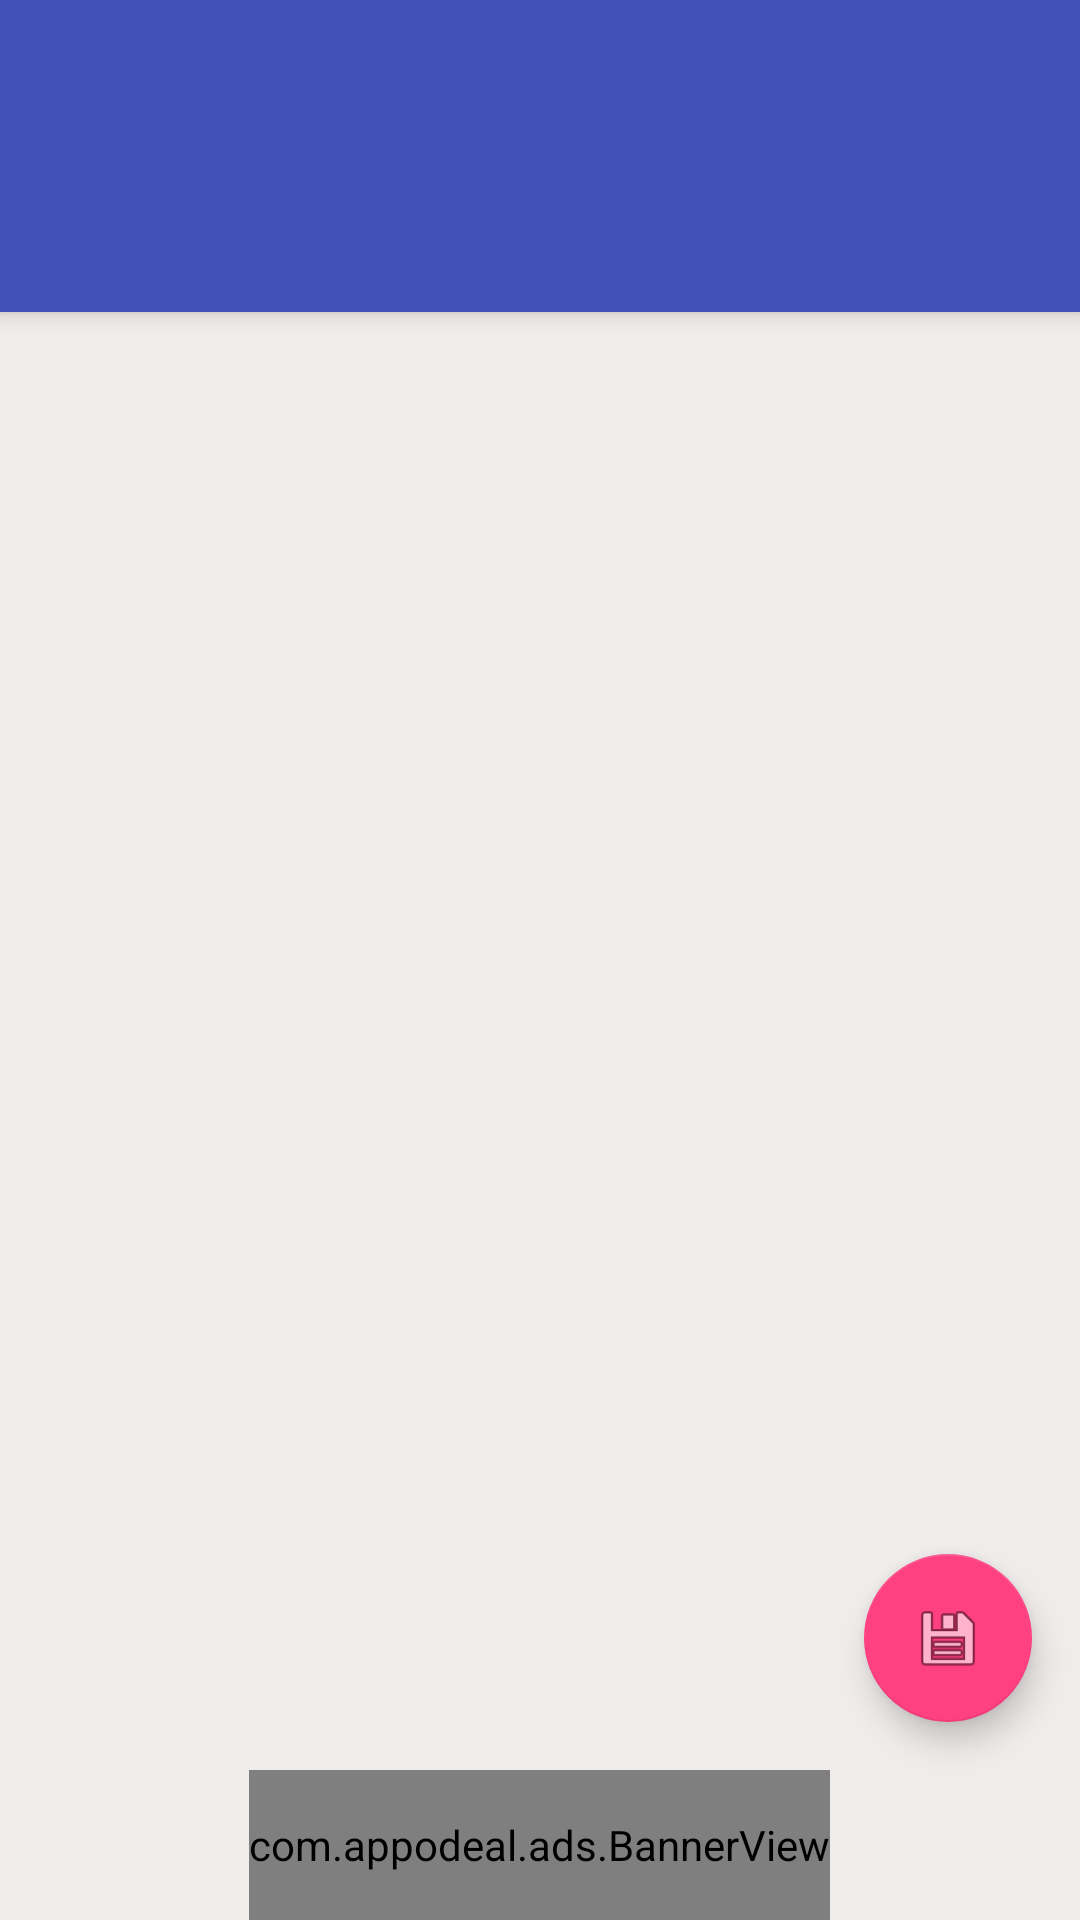

Screen size 1080px×1920px. Icon name, then its box in pixels as detection(x1, y1, x2, y2):
save: detection(864, 1554, 1032, 1722)
